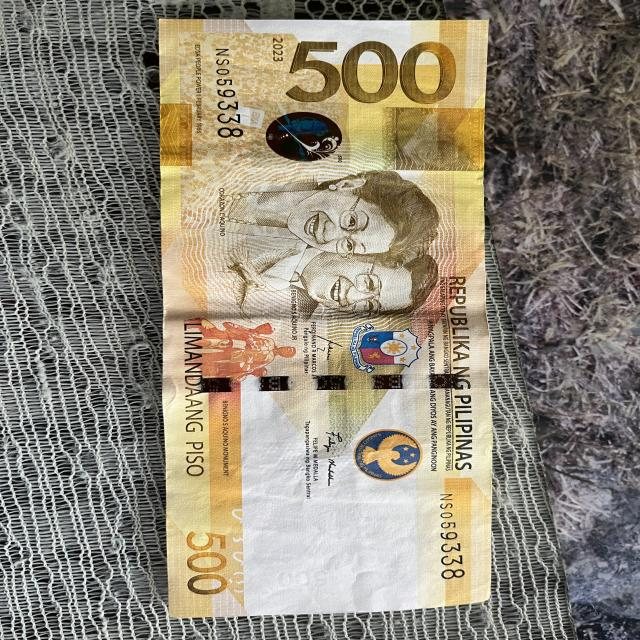concealed_value: (383, 106, 486, 171)
optically_variable_device: (259, 108, 347, 166)
security_thread: (163, 371, 488, 393)
see_through_mark: (229, 503, 265, 604)
serial_number: (426, 488, 471, 583), (212, 43, 248, 140)
value: (285, 38, 461, 106)
value_watermark: (275, 567, 334, 592)
